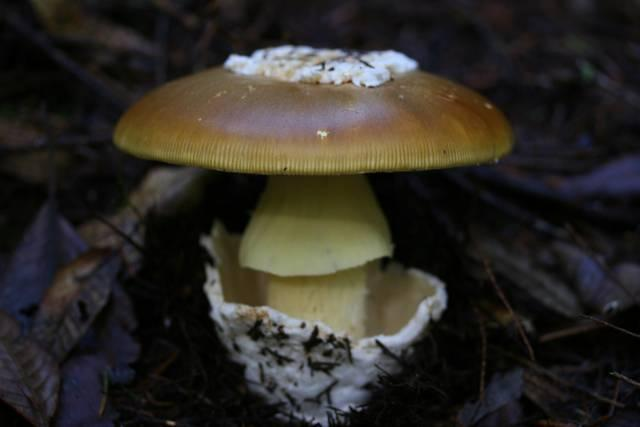Edible Mushroom: (111, 42, 515, 425)
